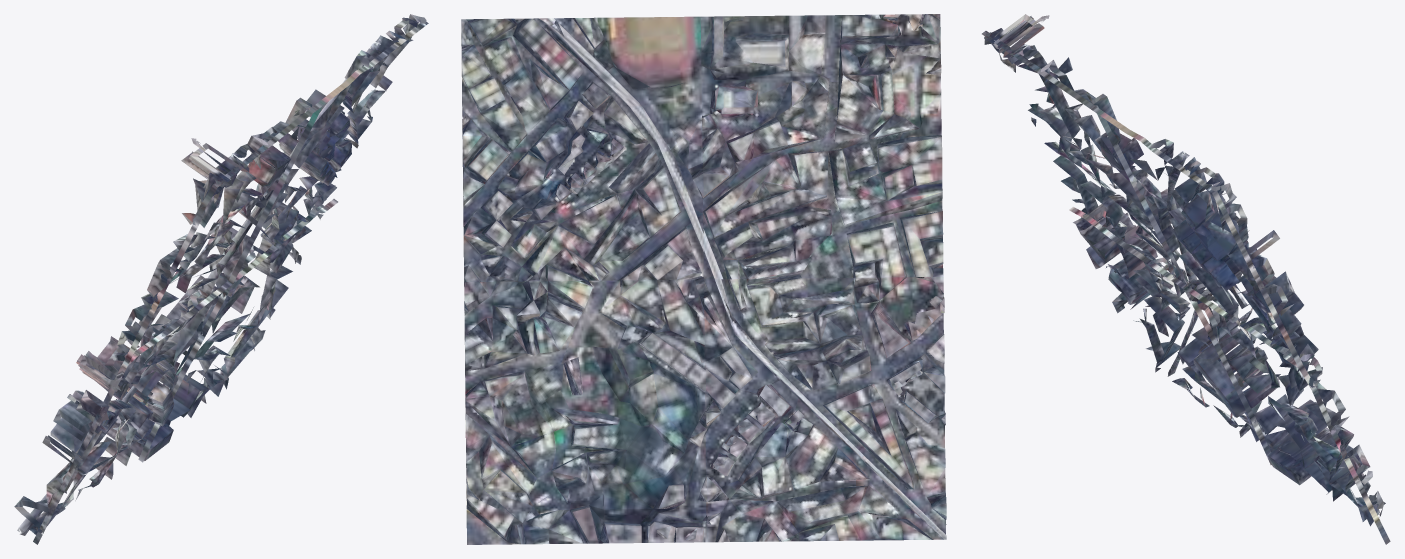
The picture shows the model from 3 angles, left to right: view 1: azimuth 30°, elevation 25°; view 2: azimuth 150°, elevation 25°; view 3: azimuth 270°, elevation 25°; orthographic projection. The views are drawn at different scales.
Size of the model in its own units: 625 by 583 by 515.
Materials: 2 (2 with a texture image).
